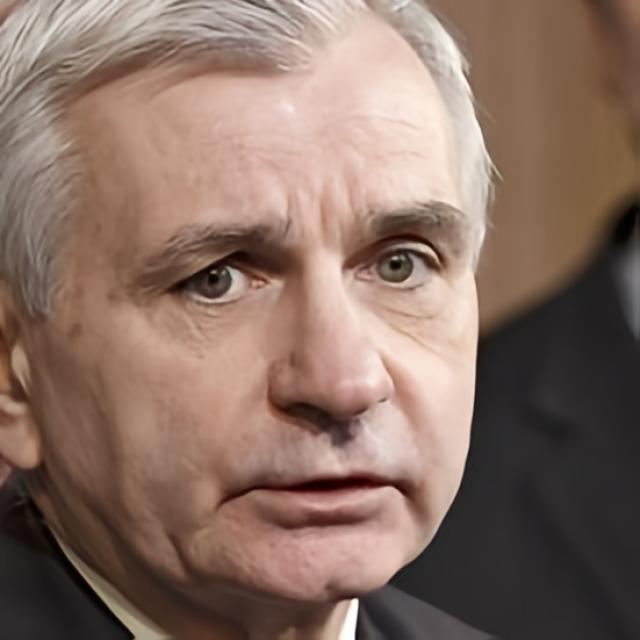sad: (46, 59, 481, 612)
